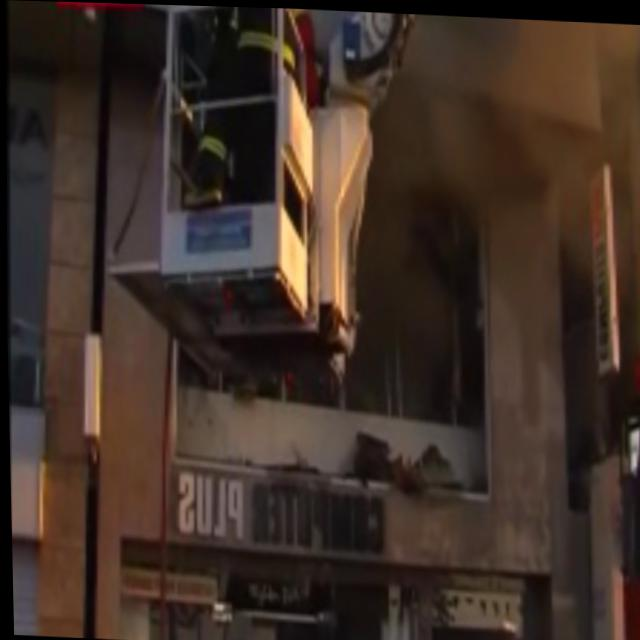smoke: (379, 9, 639, 220)
